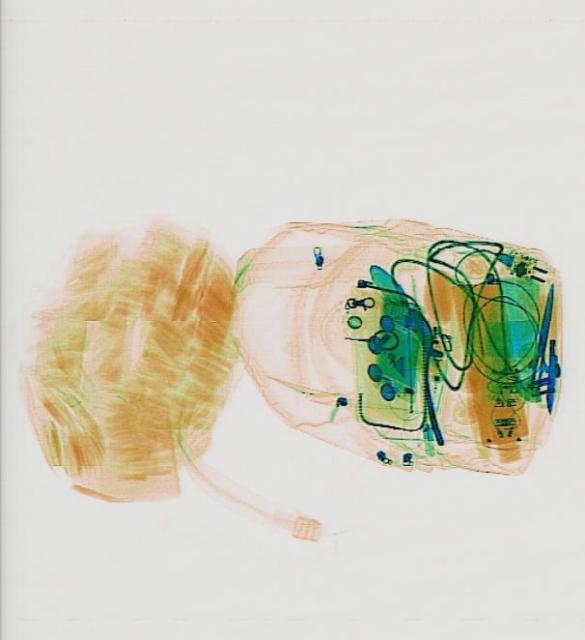Knife: (527, 281, 555, 387), (539, 339, 561, 413)
